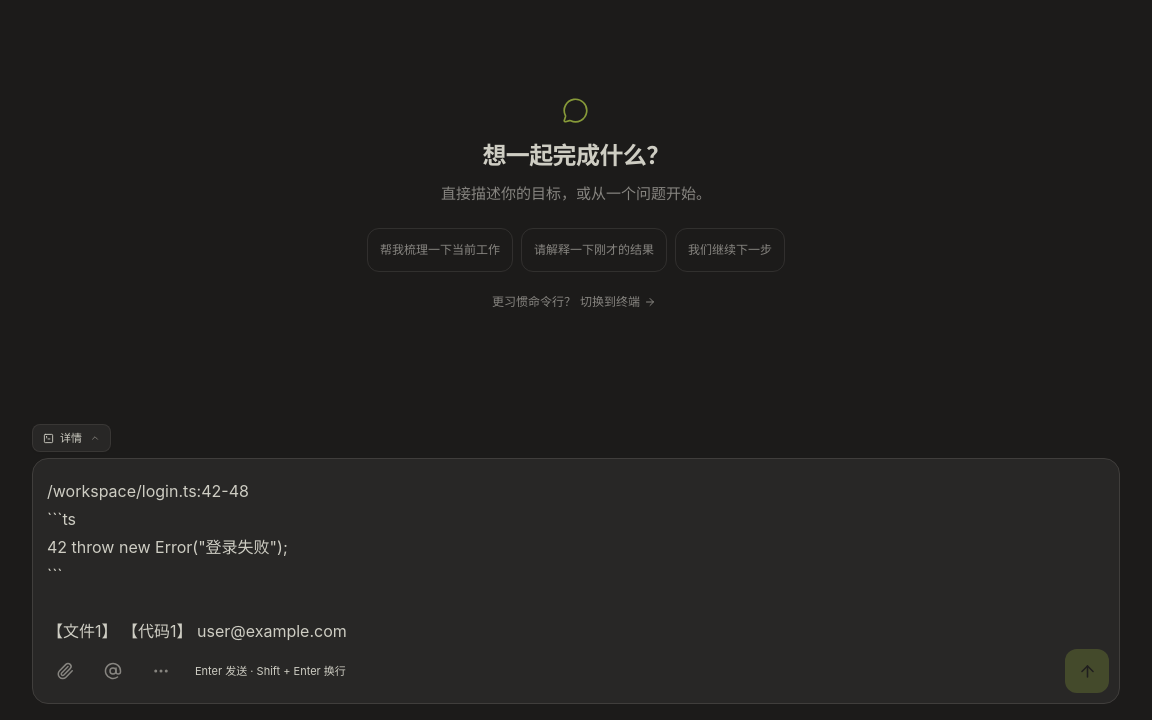
Test case: keeps typed/pasted paths, code and lookalike labels as text; only explicit metadata creates a block
The image size is (1152, 720).
expect the heading "想一起完成什么？" is shown: met, box [482,140,670,172]
Clear the field at (148, 491), box [47,481,347,641]
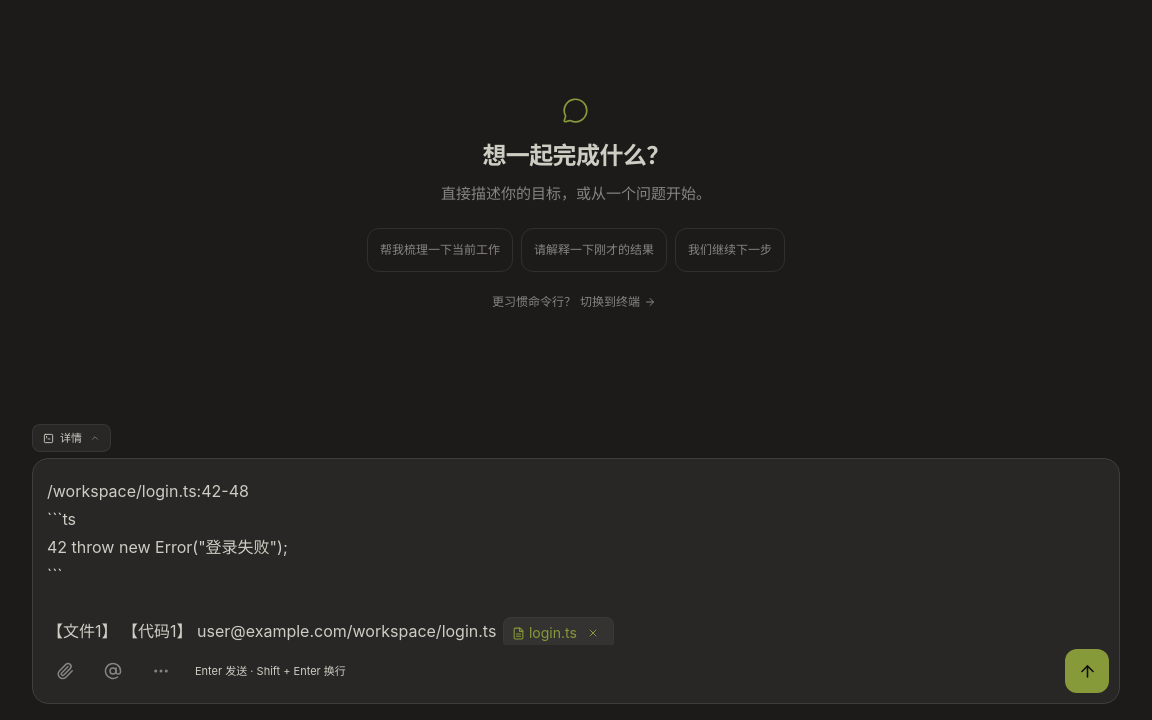
expect the button with aria-label "预览文件 login.ts" is shown: met, box [512,623,577,643]
